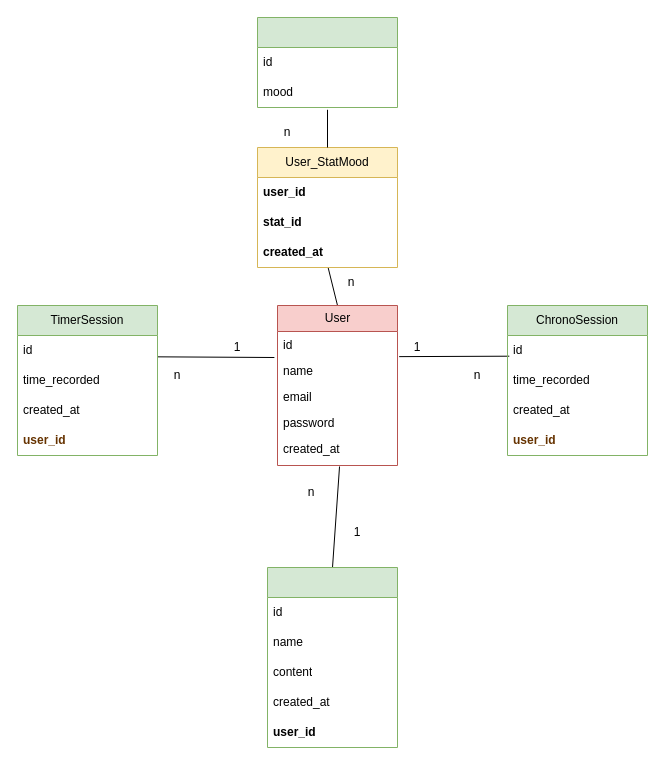
The diagram is 665 pixels wide and 765 high, and some of its shapes have lost their labels. Each missing label, with the box of its shape:
Article: (266, 566, 398, 748)
StatMood: (256, 16, 398, 108)
